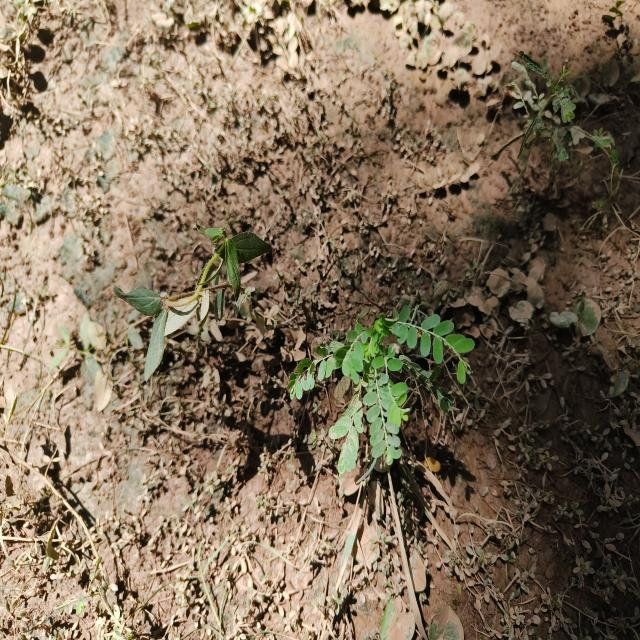weed: (299, 301, 473, 497), (144, 219, 267, 355)
